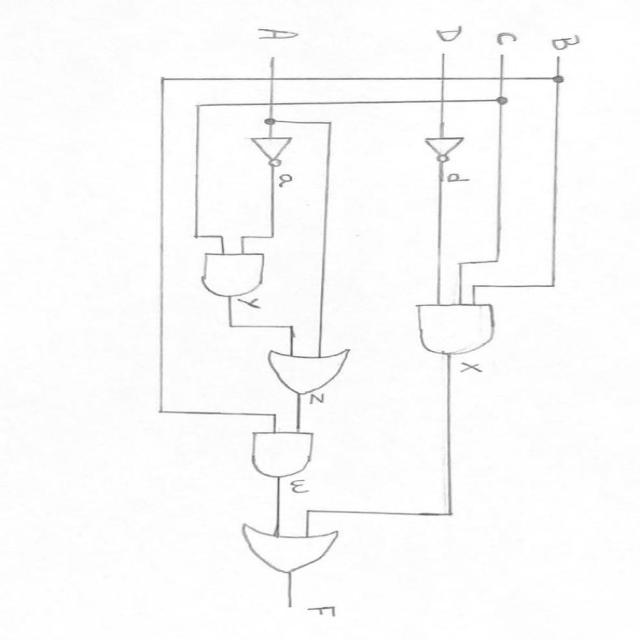AND: (401, 292, 507, 359), (240, 420, 328, 482), (194, 244, 274, 298)
NOT: (409, 131, 480, 167), (235, 134, 303, 170)
OR: (228, 519, 358, 575), (256, 341, 358, 397)
